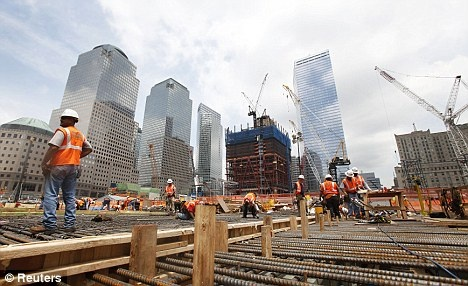white: (59, 108, 79, 127), (345, 170, 354, 180), (297, 174, 304, 182), (325, 174, 332, 182), (352, 167, 358, 176), (167, 178, 172, 185)
